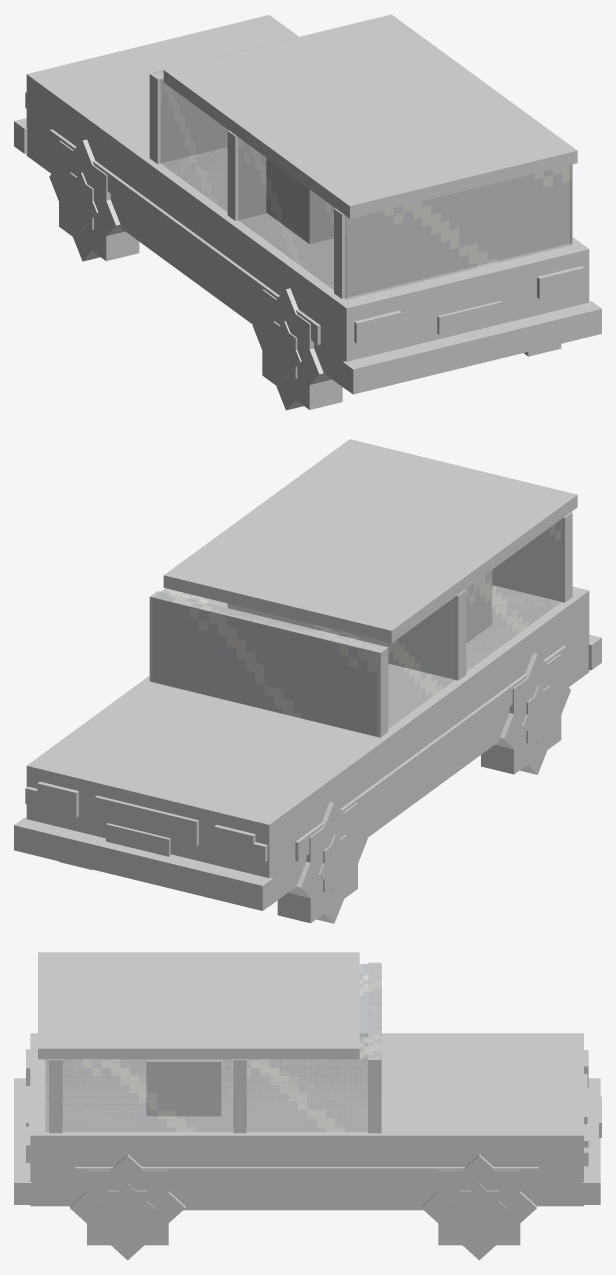
File: car_b_yellow.glb
3 views of the same model, one above another, from view 1: azimuth 30°, elevation 25°; view 2: azimuth 150°, elevation 25°; view 3: azimuth 270°, elevation 25° (orthographic). The views are drawn at different scales.
Parts seen in each view (by area): view 1: gas_station_town; view 2: gas_station_town; view 3: gas_station_town.
Part boxes in pixels (x1=…): gas_station_town: x1=14, y1=14, x2=601, y2=410; gas_station_town: x1=14, y1=439, x2=601, y2=923; gas_station_town: x1=14, y1=952, x2=601, y2=1260.
Size of the model in its own units: 1.7 by 1.53 by 3.93.
2 materials, 1 textured.
